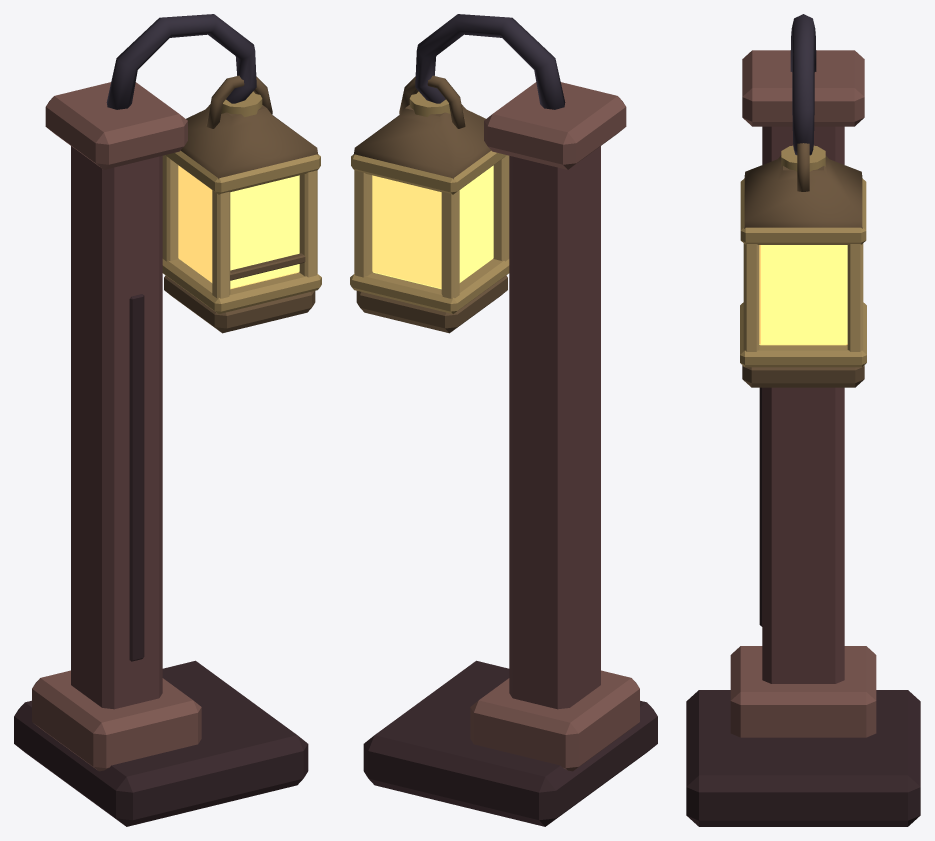
Rendered from pocket_lantern.glb.
3 views of the same model, side by side, from view 1: azimuth 30°, elevation 25°; view 2: azimuth 150°, elevation 25°; view 3: azimuth 270°, elevation 25° (orthographic). The views are drawn at different scales.
Parts seen in each view (by area): view 1: pocket_lantern; view 2: pocket_lantern; view 3: pocket_lantern.
Part boxes in pixels (box(x1,y1,x2,y2)): pocket_lantern: box(14, 14, 321, 826); pocket_lantern: box(350, 14, 657, 826); pocket_lantern: box(686, 14, 920, 826).
Bounding box in the file's own units: 0.385 × 1.2 × 0.33.
